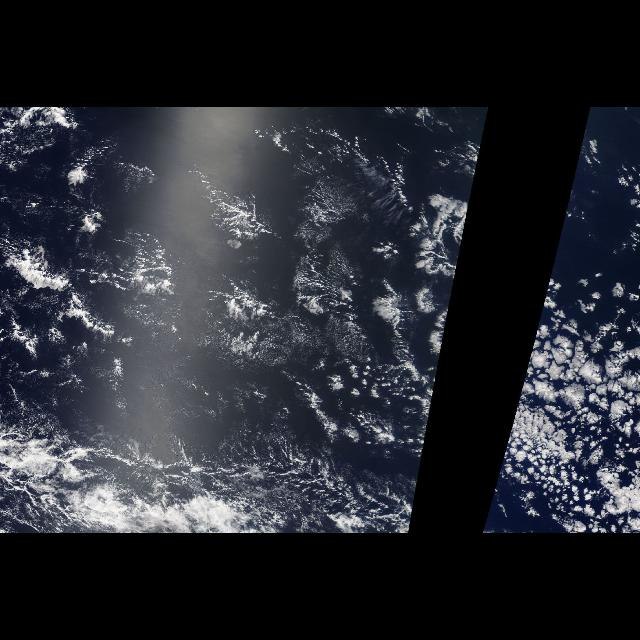Fish: (23, 428, 414, 506)
Flower: (482, 175, 638, 533), (406, 175, 476, 533)
Gravel: (72, 123, 422, 414)
